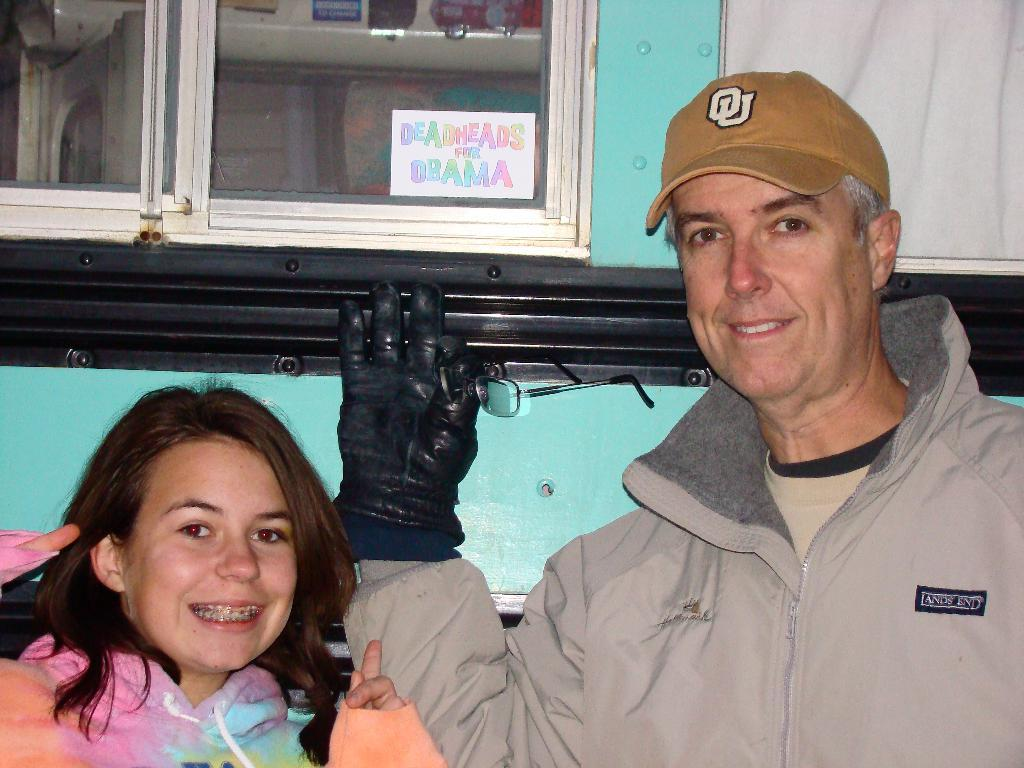Hat: (642, 68, 888, 236)
